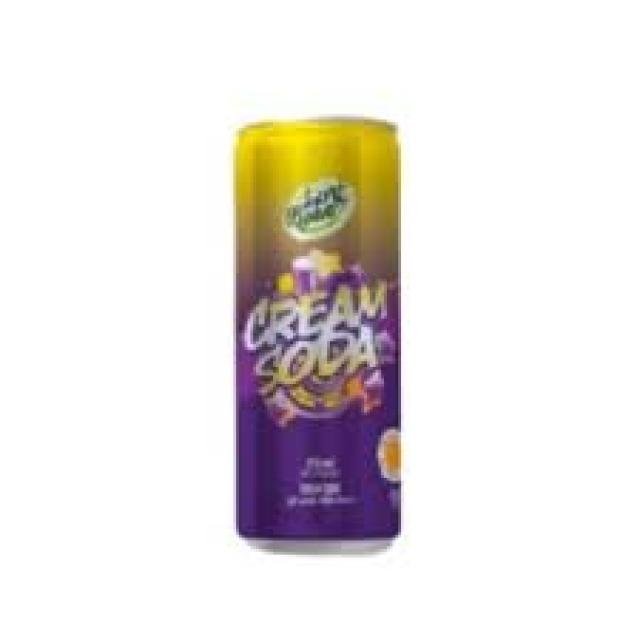Cans: (225, 111, 415, 557)
